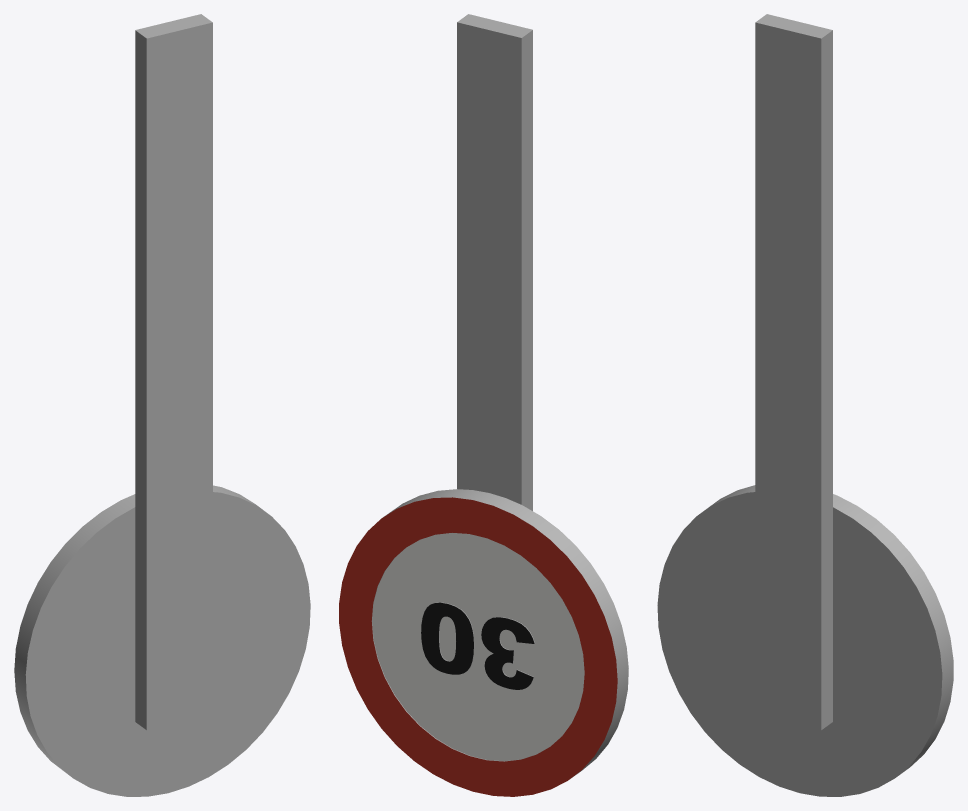
3 views of the same model, side by side, from view 1: azimuth 30°, elevation 25°; view 2: azimuth 150°, elevation 25°; view 3: azimuth 330°, elevation 25° (orthographic). The views are drawn at different scales.
Visible parts, largest first — view 1: Body1_Paint - Enamel Glossy (Grey); view 2: Body1_Paint - Enamel Glossy (Grey), Body1_Paint - Enamel Glossy (White), Body1_Paint - Enamel Glossy (Red), Body1_Paint - Enamel Glossy (Black); view 3: Body1_Paint - Enamel Glossy (Grey).
Boxes of the visible parts, bbox=[...] form: Body1_Paint - Enamel Glossy (Grey): bbox=[14, 14, 310, 796]; Body1_Paint - Enamel Glossy (Grey): bbox=[371, 14, 628, 777]; Body1_Paint - Enamel Glossy (White): bbox=[372, 533, 584, 761]; Body1_Paint - Enamel Glossy (Red): bbox=[339, 497, 617, 796]; Body1_Paint - Enamel Glossy (Black): bbox=[421, 602, 534, 689]; Body1_Paint - Enamel Glossy (Grey): bbox=[657, 14, 953, 796].
Size of the model in its own units: 0.2155 by 0.5574 by 0.0301.
